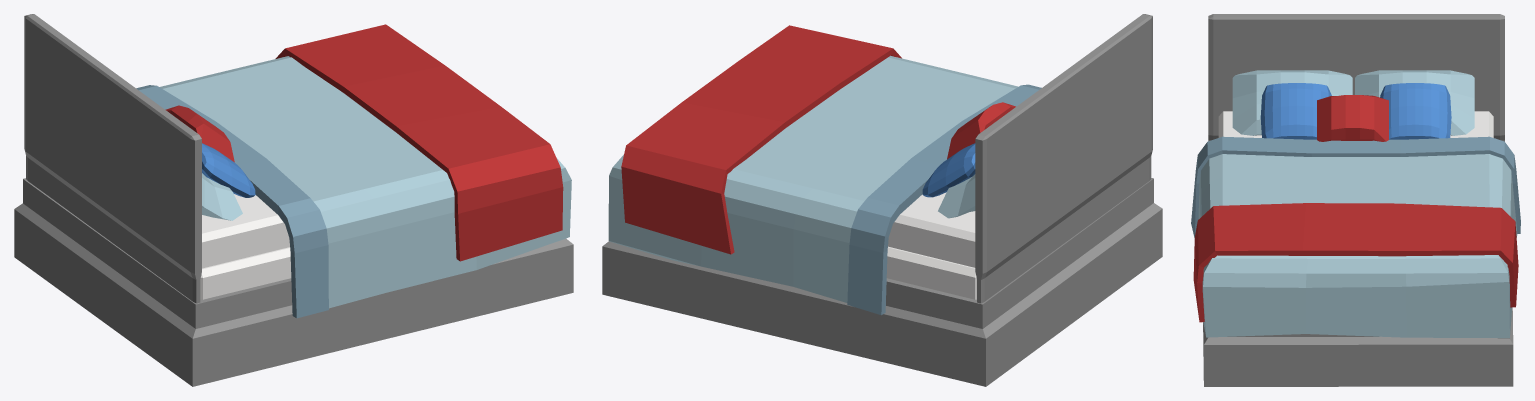
File: Bed_1.fbx
3 views of the same model, side by side, from view 1: azimuth 30°, elevation 25°; view 2: azimuth 150°, elevation 25°; view 3: azimuth 270°, elevation 25° (orthographic). The views are drawn at different scales.
Visible parts, largest first — view 1: Bed_1; view 2: Bed_1; view 3: Bed_1.
Boxes of the visible parts, bbox=[...] form: Bed_1: bbox=[14, 14, 573, 386]; Bed_1: bbox=[602, 14, 1162, 386]; Bed_1: bbox=[1191, 14, 1520, 386].
Size of the model in its own units: 228 by 195 by 139.
